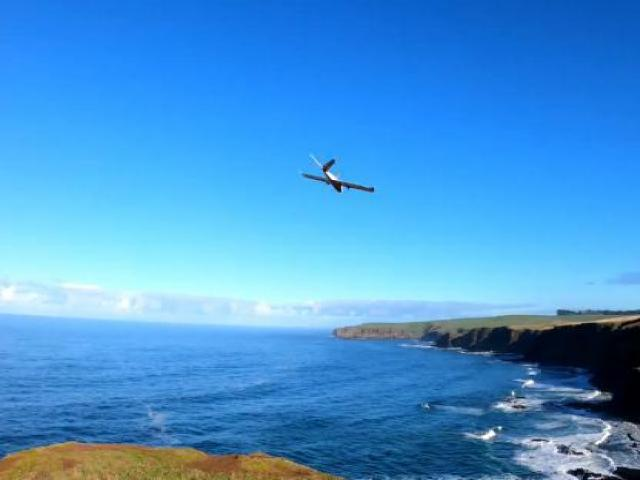uav: (296, 149, 375, 198)
